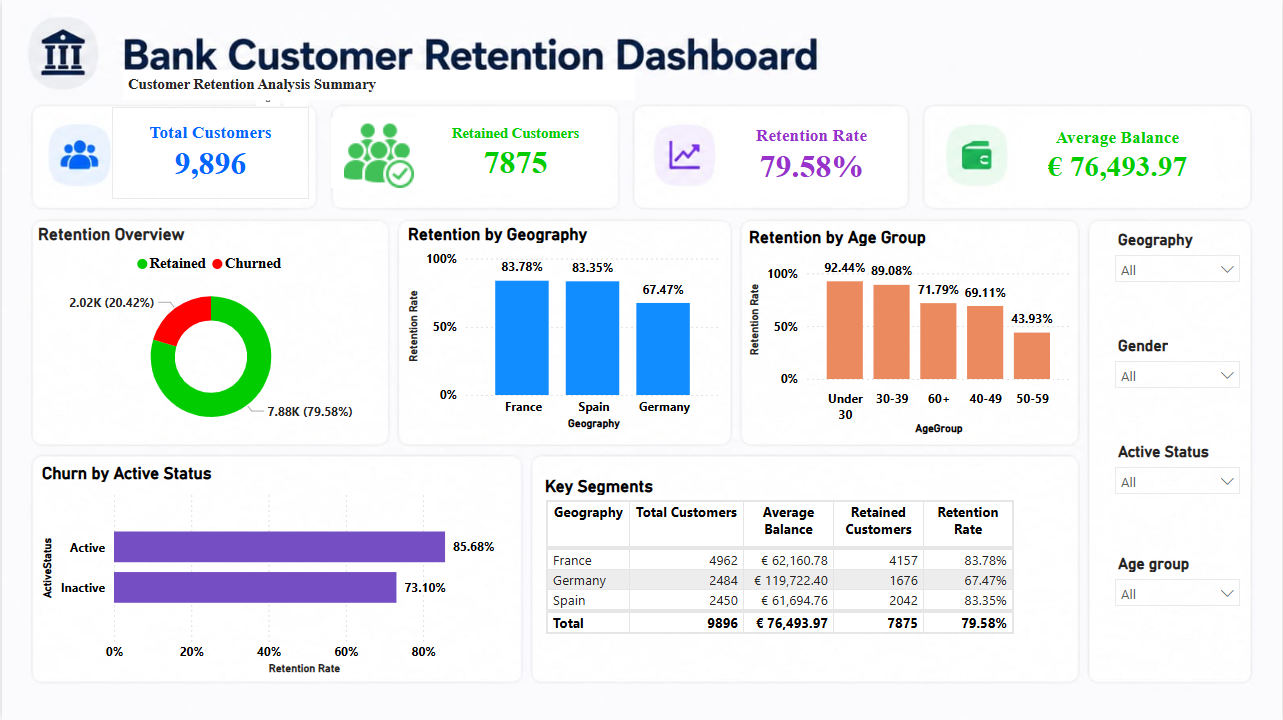

This screenshot's page, from the dashboard's own definition file:
{"tool":"powerbi","page":{"name":"Retention Dasboard","canvas":[1280,720],"ordinal":2},"visuals":[{"type":"cardVisual","fields":{"Data":["bank_churn_project bank_churn_analysis.Total Customers"]},"box":[110,107,197,92],"z":0},{"type":"image","box":[329,118,95,70],"z":1000},{"type":"cardVisual","fields":{"Data":["bank_churn_project bank_churn_analysis.Retained Customers"]},"box":[415,107,197,92],"z":2000},{"type":"cardVisual","fields":{"Data":["bank_churn_project bank_churn_analysis.Retention Rate"]},"box":[713,110,193,92],"z":3000},{"type":"cardVisual","fields":{"Data":["bank_churn_project bank_churn_analysis.Average Balance"]},"box":[1015,110,201,92],"z":4000},{"type":"donutChart","title":"Retention Overview","fields":{"Category":["bank_churn_project bank_churn_analysis.ChurnStatus"],"Y":["bank_churn_project bank_churn_analysis.Total Customers"]},"box":[31,224,356,215],"z":5000},{"type":"clusteredColumnChart","title":"Retention by Geography","fields":{"Category":["bank_churn_project bank_churn_analysis.Geography"],"Y":["bank_churn_project bank_churn_analysis.Retention Rate"]},"box":[401,224,323,210],"z":6000},{"type":"clusteredColumnChart","title":"Retention by Age Group","fields":{"Category":["bank_churn_project bank_churn_analysis.AgeGroup"],"Y":["bank_churn_project bank_churn_analysis.Retention Rate"]},"box":[742,227,331,212],"z":6001},{"type":"clusteredBarChart","title":"Churn by Active Status","fields":{"Category":["bank_churn_project bank_churn_analysis.ActiveStatus"],"Y":["bank_churn_project bank_churn_analysis.Retention Rate"]},"box":[35,463,476,216],"z":6002},{"type":"tableEx","title":"Key Segments ","fields":{"Values":["bank_churn_project bank_churn_analysis.Geography","bank_churn_project bank_churn_analysis.Total Customers","bank_churn_project bank_churn_analysis.Average Balance","bank_churn_project bank_churn_analysis.Retained Customers","bank_churn_project bank_churn_analysis.Retention Rate"]},"box":[538,476,528,189],"z":6003},{"type":"slicer","fields":{"Values":["bank_churn_project bank_churn_analysis.Geography"]},"box":[1103,225,145,77],"z":6004},{"type":"slicer","fields":{"Values":["bank_churn_project bank_churn_analysis.Gender"]},"box":[1103,331,145,77],"z":6005},{"type":"slicer","fields":{"Values":["bank_churn_project bank_churn_analysis.ActiveStatus"]},"box":[1103,437,145,77],"z":6006},{"type":"slicer","fields":{"Values":["bank_churn_project bank_churn_analysis.AgeGroup"]},"box":[1103,549,145,77],"z":6007},{"type":"textbox","box":[121,70,512,30],"z":6008}]}

Visuals, with their boxes in screenshot pixels (x1, y1, x2, y2), scaled from the page's 1280x720 canvas onto the 1283x720 screenshot:
cardVisual - bank_churn_project bank_churn_analysis.Total Customers: {"x1": 110, "y1": 107, "x2": 308, "y2": 199}
image: {"x1": 330, "y1": 118, "x2": 425, "y2": 188}
cardVisual - bank_churn_project bank_churn_analysis.Retained Customers: {"x1": 416, "y1": 107, "x2": 613, "y2": 199}
cardVisual - bank_churn_project bank_churn_analysis.Retention Rate: {"x1": 715, "y1": 110, "x2": 908, "y2": 202}
cardVisual - bank_churn_project bank_churn_analysis.Average Balance: {"x1": 1017, "y1": 110, "x2": 1219, "y2": 202}
"Retention Overview" donutChart: {"x1": 31, "y1": 224, "x2": 388, "y2": 439}
"Retention by Geography" clusteredColumnChart: {"x1": 402, "y1": 224, "x2": 726, "y2": 434}
"Retention by Age Group" clusteredColumnChart: {"x1": 744, "y1": 227, "x2": 1076, "y2": 439}
"Churn by Active Status" clusteredBarChart: {"x1": 35, "y1": 463, "x2": 512, "y2": 679}
"Key Segments " tableEx: {"x1": 539, "y1": 476, "x2": 1068, "y2": 665}
slicer - bank_churn_project bank_churn_analysis.Geography: {"x1": 1106, "y1": 225, "x2": 1251, "y2": 302}
slicer - bank_churn_project bank_churn_analysis.Gender: {"x1": 1106, "y1": 331, "x2": 1251, "y2": 408}
slicer - bank_churn_project bank_churn_analysis.ActiveStatus: {"x1": 1106, "y1": 437, "x2": 1251, "y2": 514}
slicer - bank_churn_project bank_churn_analysis.AgeGroup: {"x1": 1106, "y1": 549, "x2": 1251, "y2": 626}
textbox: {"x1": 121, "y1": 70, "x2": 634, "y2": 100}
